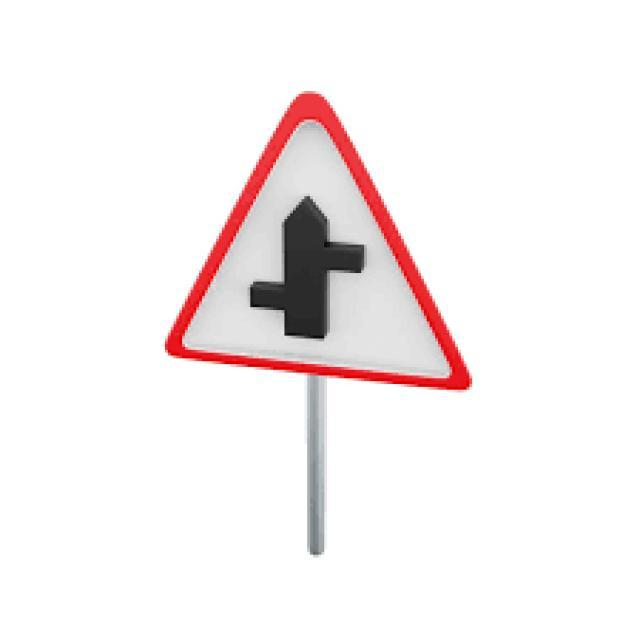staggered intersection: (145, 81, 479, 407)
